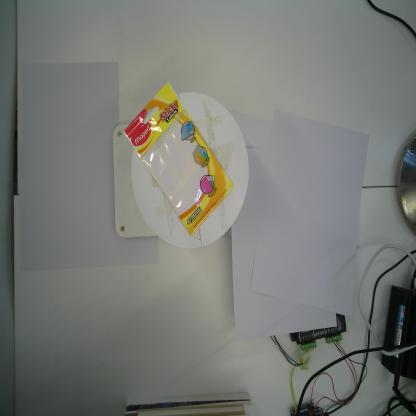Stationery: (122, 80, 236, 242)
